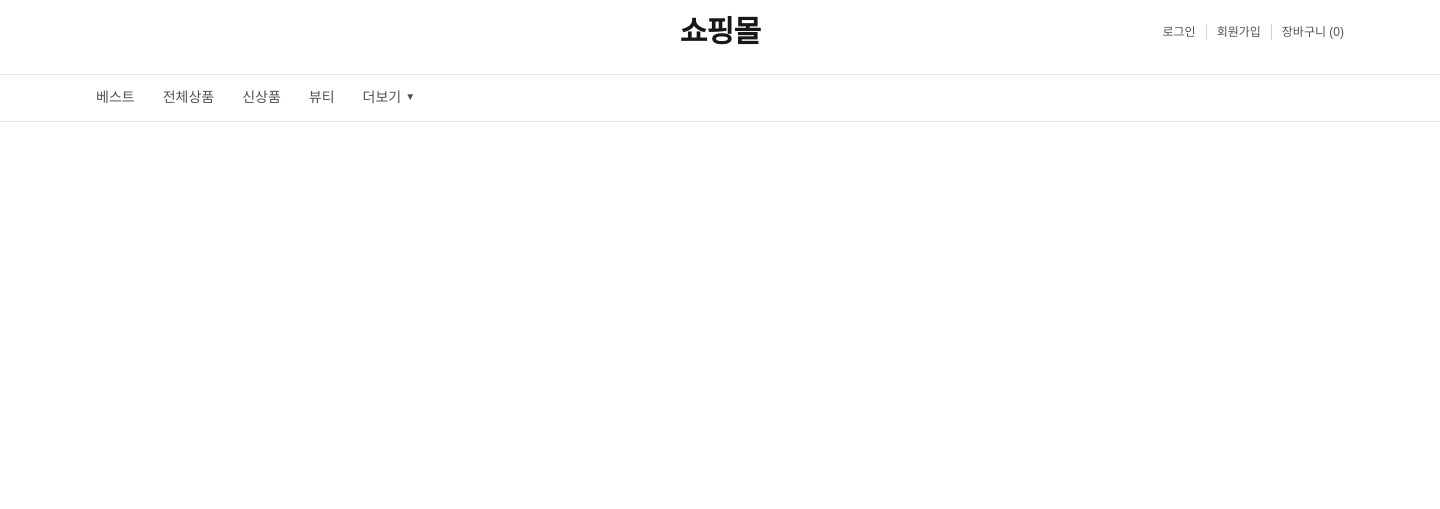
Header 더보기 › 메뉴가 한 줄에 다 안 들어갈 때 › 성공: 넘치는 항목은 더보기로 가고, 누르면 열리고 Escape로 닫힌다
The width and height of the screenshot is (1440, 509).
Check: the link "스포츠/레저" is not shown
Click the button "더보기 ▼": point(389, 98) top-left (363, 75), bottom-right (415, 121)
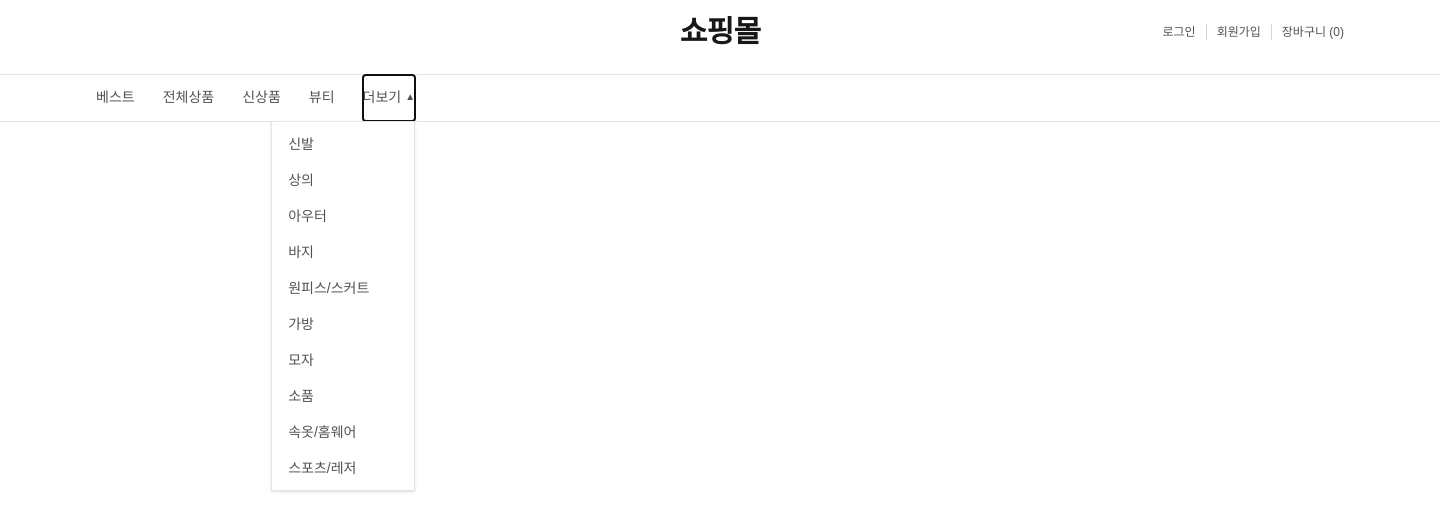
Check: the link "스포츠/레저" is shown, box top-left (288, 460), bottom-right (356, 476)
Press Escape
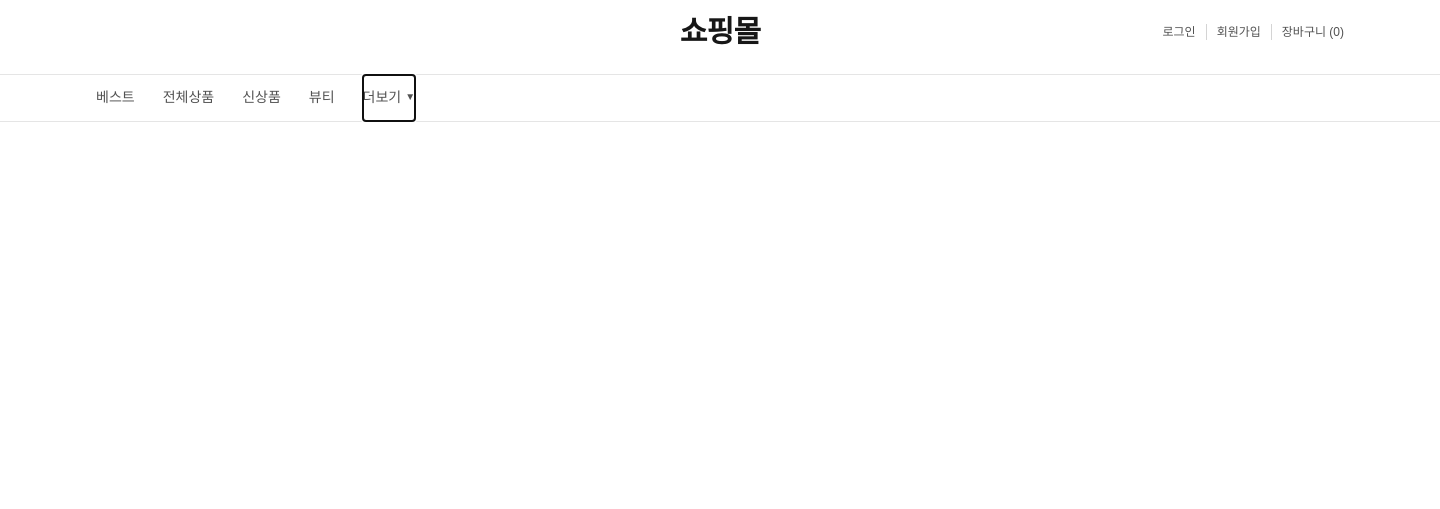
Check: the link "스포츠/레저" is gone
